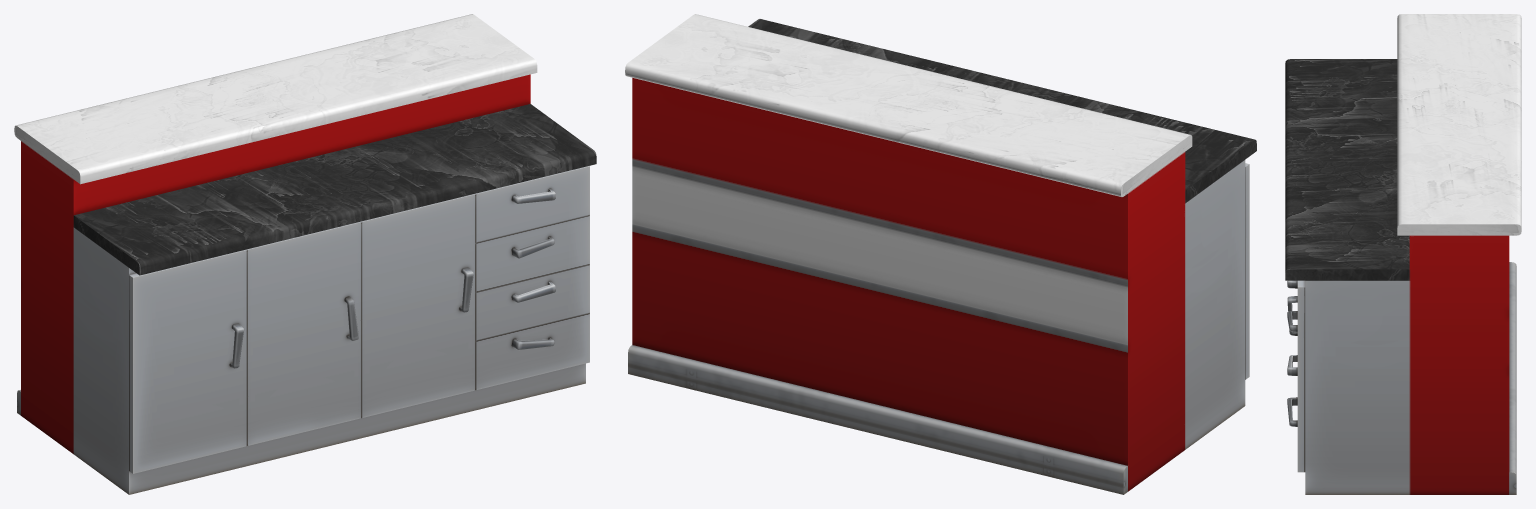
Rendered from CafeBarStand01_1.FBX.
3 renders of one model, left to right at view 1: azimuth 30°, elevation 25°; view 2: azimuth 150°, elevation 25°; view 3: azimuth 270°, elevation 25°, orthographic. The views are drawn at different scales.
Visible parts, largest first — view 1: CafeBarStand01_1; view 2: CafeBarStand01_1; view 3: CafeBarStand01_1.
Part boxes in pixels (x1,y1,x2,y2): CafeBarStand01_1: (14,14,596,494); CafeBarStand01_1: (625,14,1256,494); CafeBarStand01_1: (1285,14,1521,494).
Size of what is drawn, in the model's own units: 2 by 1.2 by 0.95.
